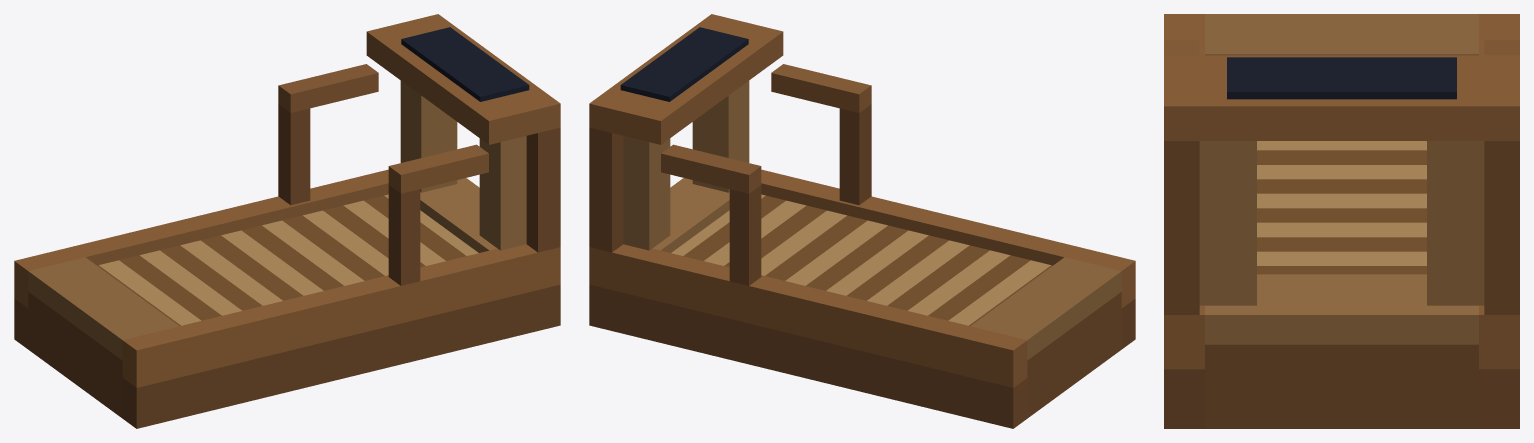
Rendered from treadmill.glb.
3 renders of one model, left to right at view 1: azimuth 30°, elevation 25°; view 2: azimuth 150°, elevation 25°; view 3: azimuth 270°, elevation 25°, orthographic. The views are drawn at different scales.
Parts seen in each view (by area): view 1: treadmill, Belt; view 2: treadmill, Belt; view 3: treadmill, Belt.
Part boxes in pixels (x1,y1,x2,y2): treadmill: (14,14,560,428); Belt: (97,194,478,325); treadmill: (589,14,1135,428); Belt: (671,194,1052,325); treadmill: (1164,14,1519,428); Belt: (1257,141,1426,274).
Bounding box in the file's own units: 2.6 × 1.33 × 1.3.
